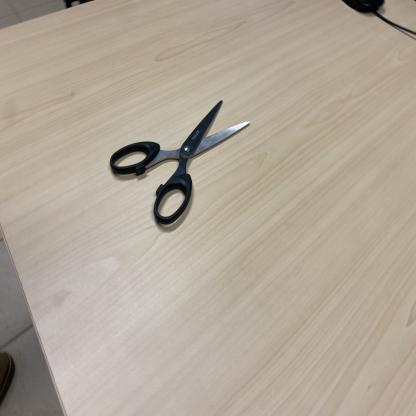scissors: (110, 99, 250, 234)
